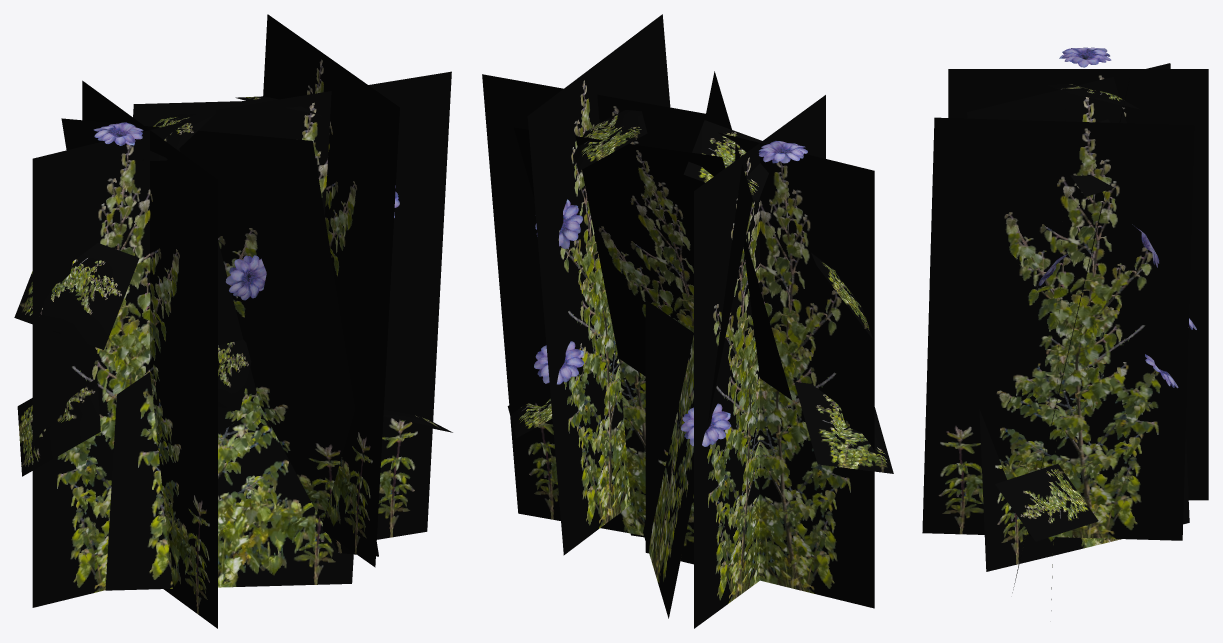
Rendered from FLOWER 1.fbx.
The picture shows the model from 3 angles, left to right: view 1: azimuth 30°, elevation 25°; view 2: azimuth 150°, elevation 25°; view 3: azimuth 270°, elevation 25°; orthographic projection. The views are drawn at different scales.
Parts seen in each view (by area): view 1: PLANT, ORRANGE FLOWER, BLUE FLOWER; view 2: PLANT, ORRANGE FLOWER, BLUE FLOWER; view 3: PLANT, ORRANGE FLOWER, BLUE FLOWER.
Part boxes in pixels (x1,y1,x2,y2): PLANT: [32, 14, 451, 628]; ORRANGE FLOWER: [14, 96, 452, 476]; BLUE FLOWER: [93, 122, 399, 300]; PLANT: [482, 14, 874, 628]; ORRANGE FLOWER: [507, 101, 893, 473]; BLUE FLOWER: [534, 141, 807, 446]; PLANT: [922, 63, 1208, 610]; ORRANGE FLOWER: [995, 84, 1140, 541]; BLUE FLOWER: [1036, 47, 1196, 388].
Bounding box in the file's own units: 90.74 × 103 × 54.95.
Materials: 2 (2 with a texture image).
